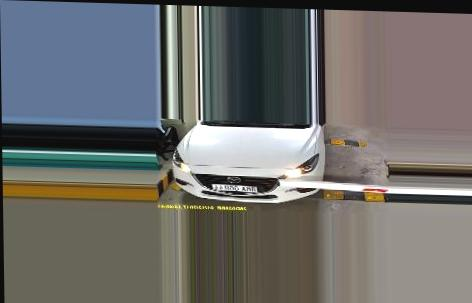License_Plate: (208, 181, 259, 196)
